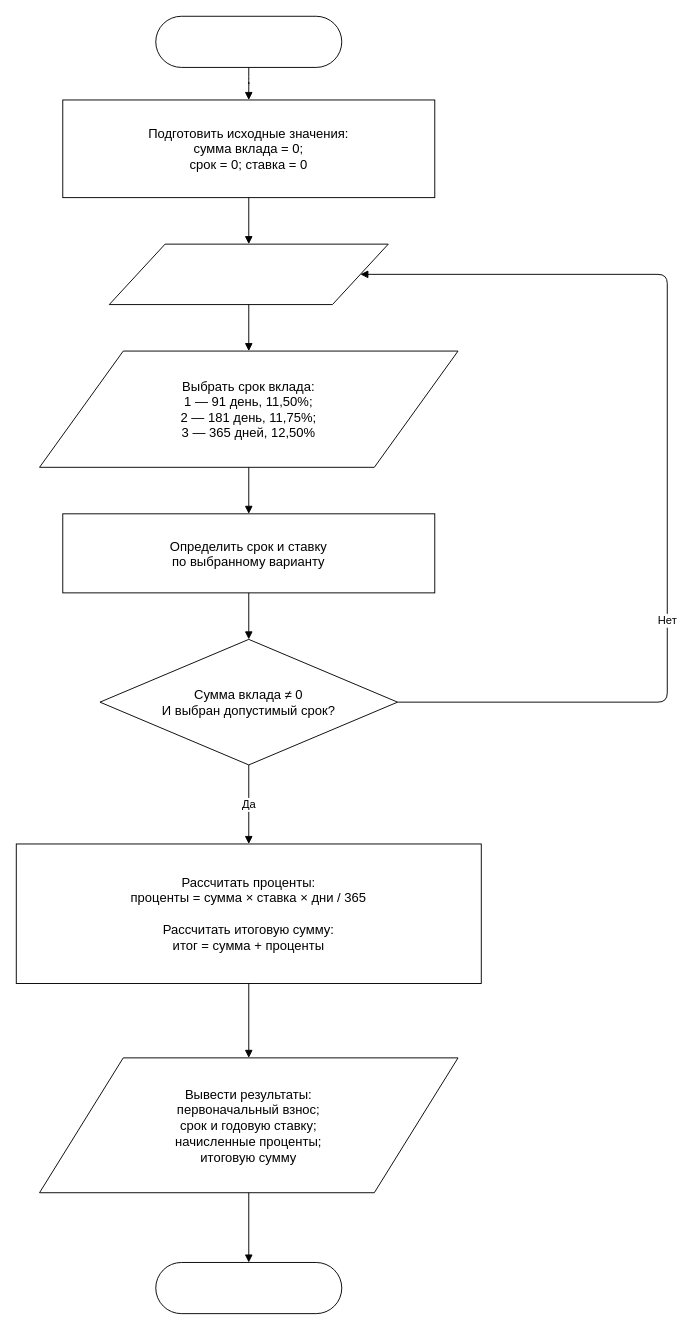
Image size: 693x1330. Some labels were removed from this diagram. The box of each missing label's shape, as (x1, y1, x2, y2) in pixels:
Ввести сумму вклада: (108, 243, 388, 305)
Конец: (155, 1262, 342, 1314)
Начало: (155, 15, 342, 67)
